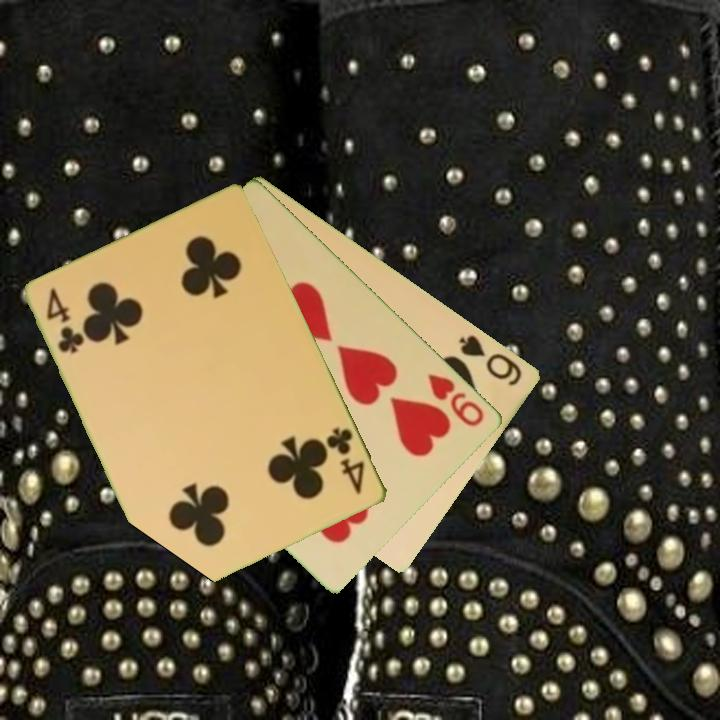4c: (323, 424, 368, 498), (43, 284, 85, 357)
6s: (456, 331, 526, 389)
9h: (424, 370, 488, 430)
